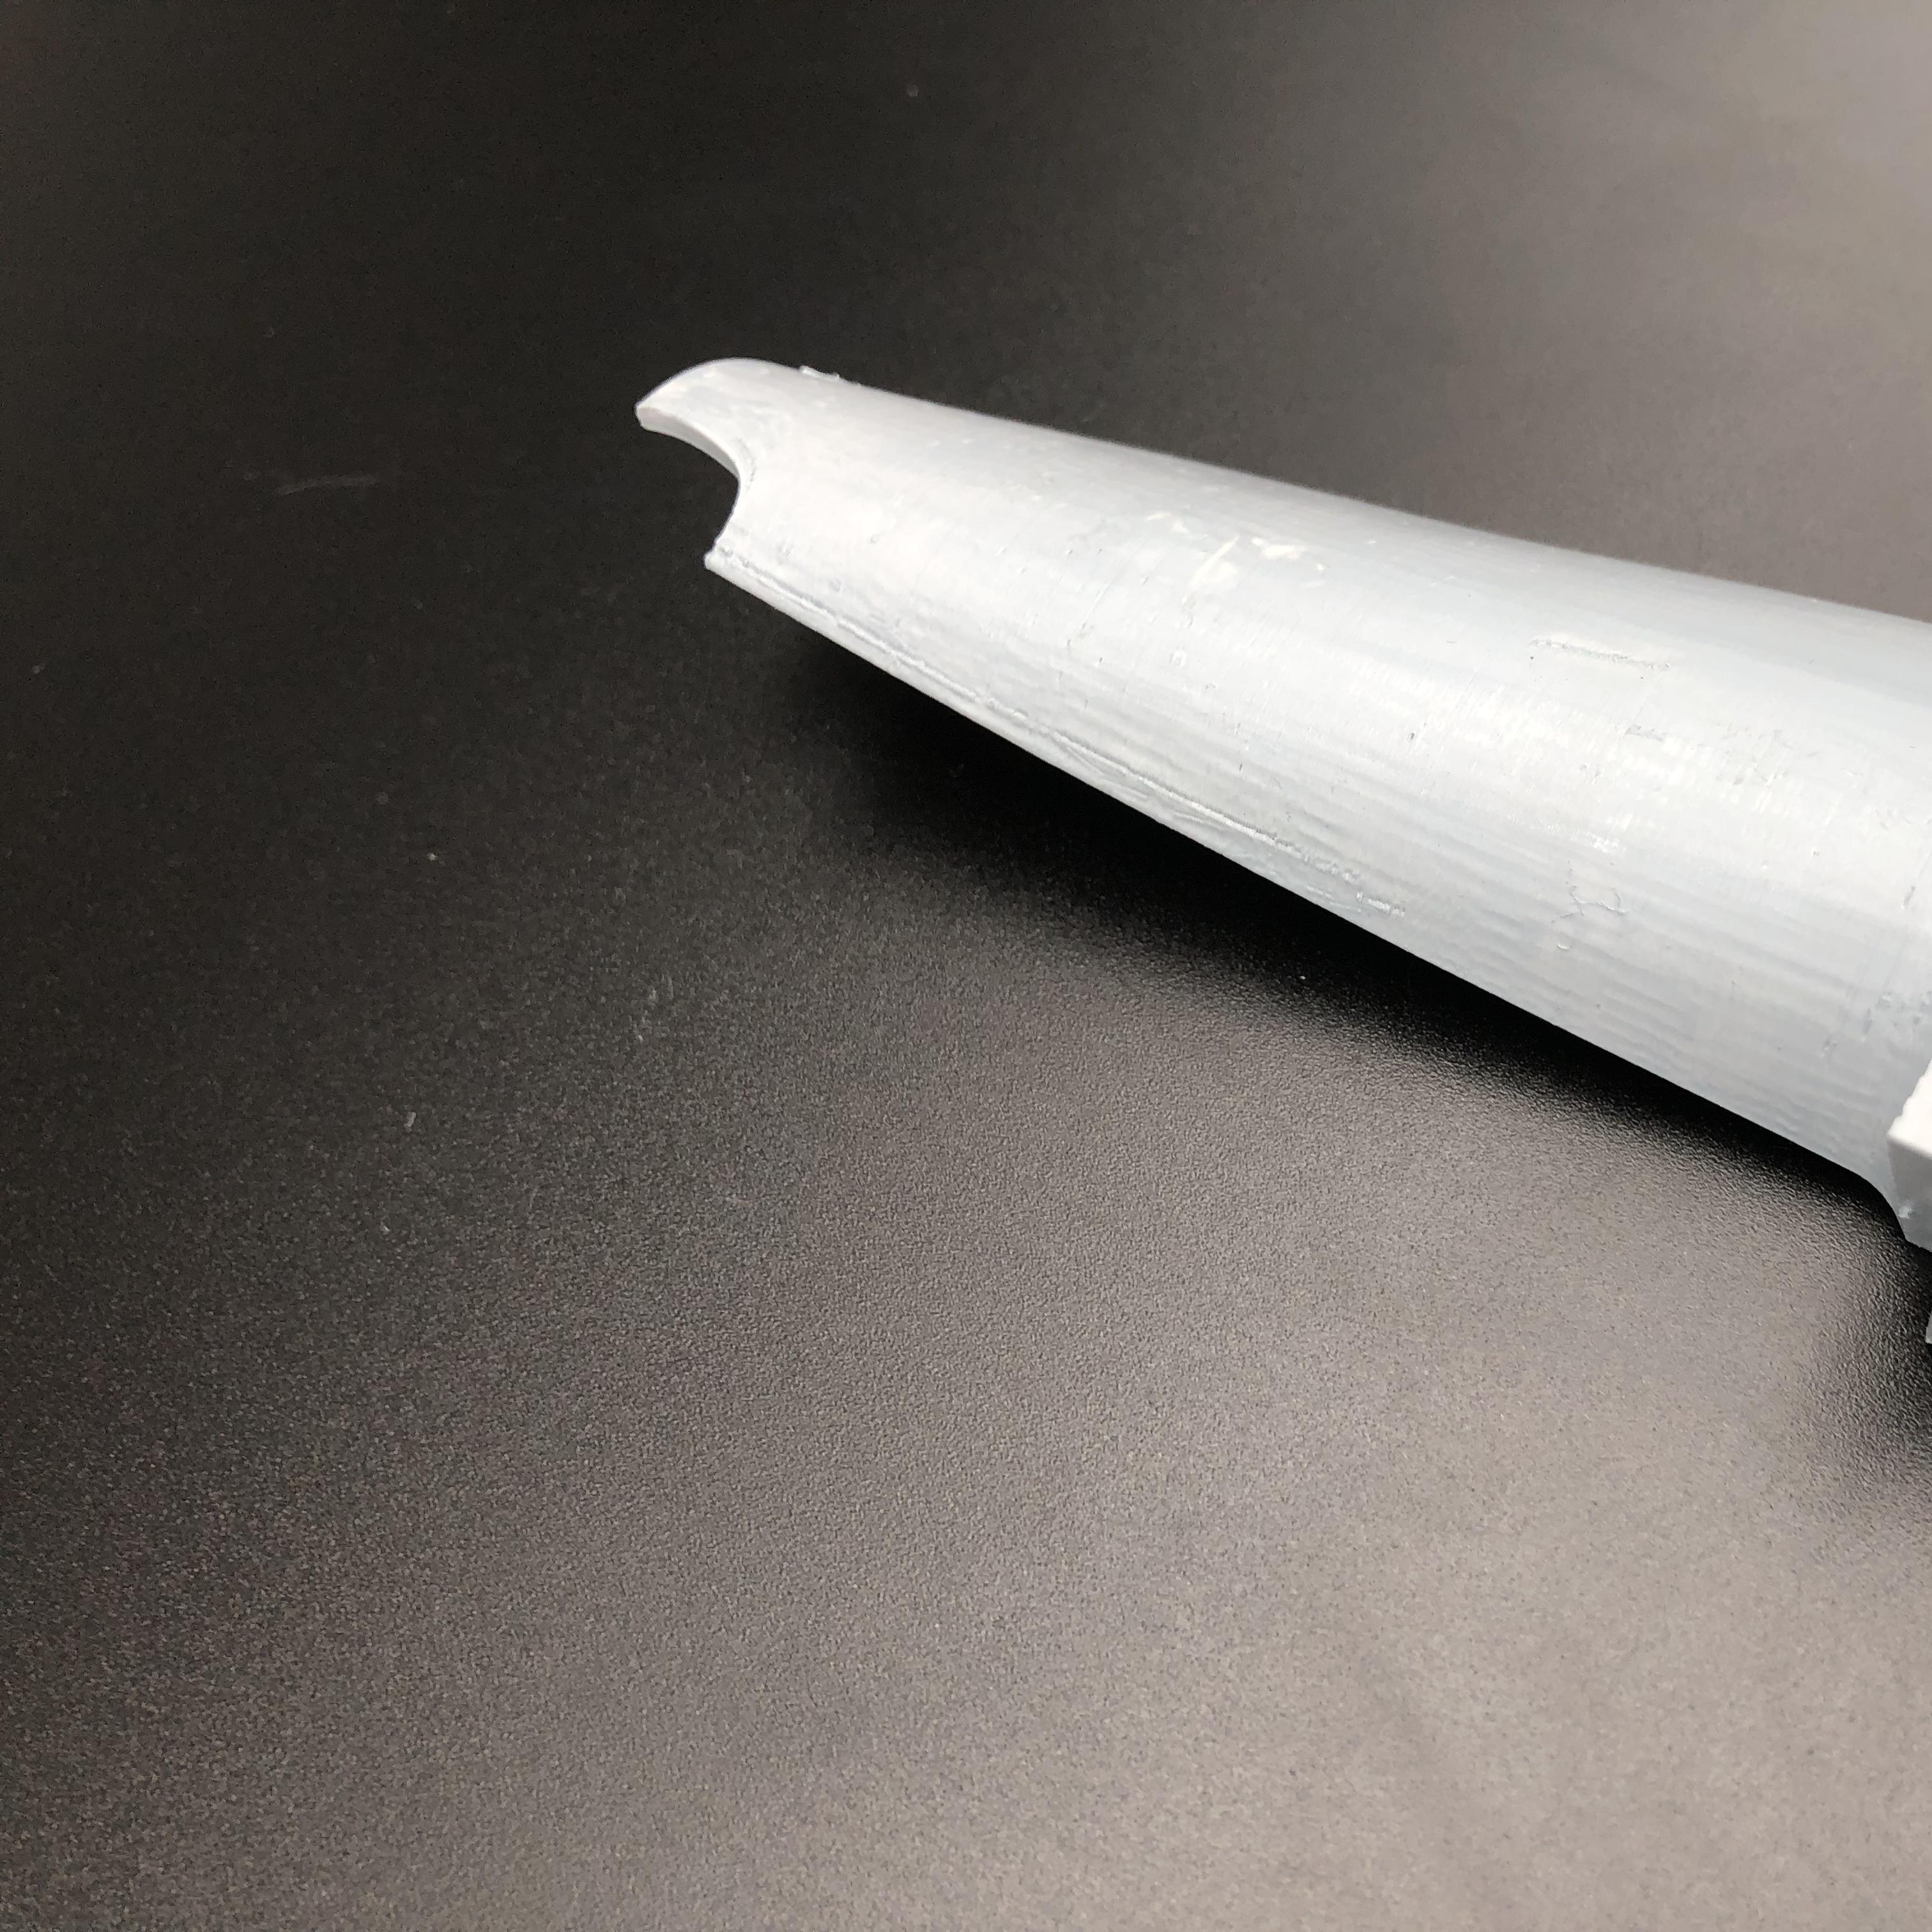fracture: (623, 391, 784, 570)
